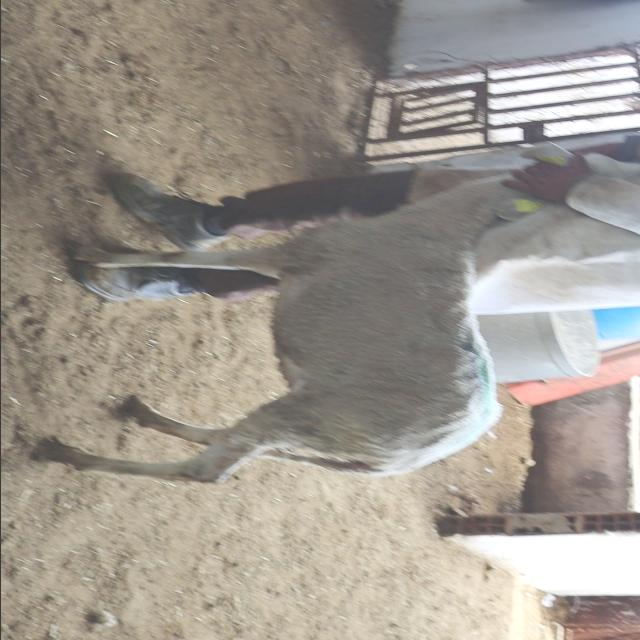Score_1: (36, 174, 537, 484)
